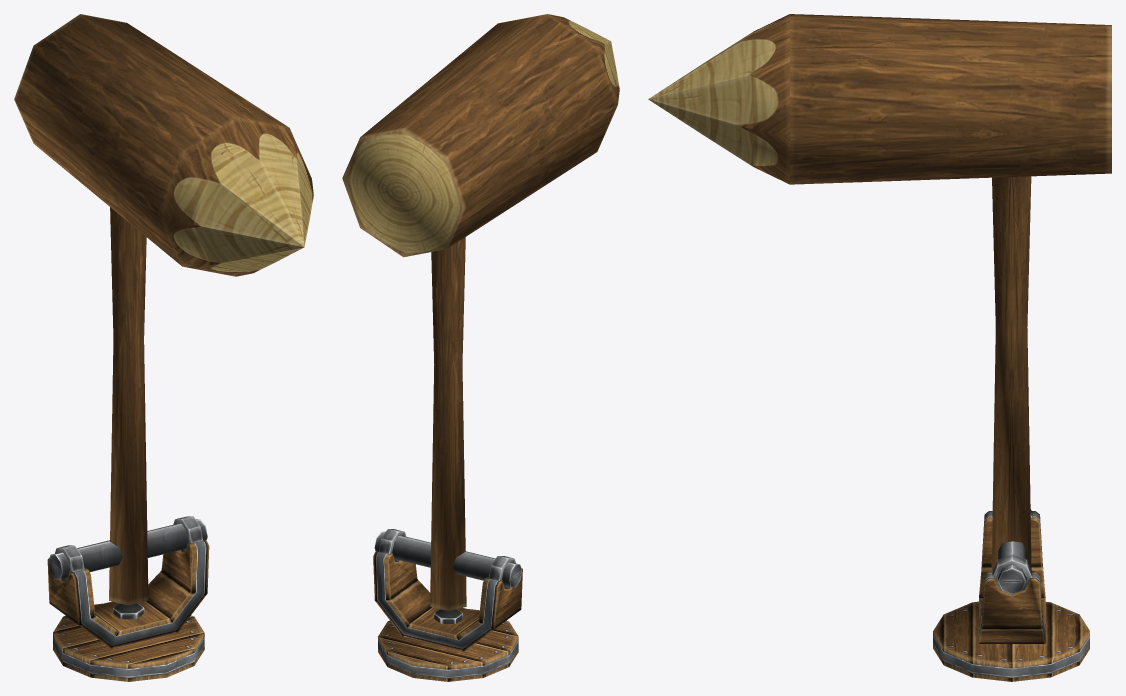
The model's file is Hammer_L1.FBX.
3 views of the same model, side by side, from view 1: azimuth 30°, elevation 25°; view 2: azimuth 150°, elevation 25°; view 3: azimuth 270°, elevation 25° (orthographic). The views are drawn at different scales.
Parts seen in each view (by area): view 1: Hammer_Hammer_L1, Hammer_Hub_L1, Hammer_Base_L1; view 2: Hammer_Hammer_L1, Hammer_Hub_L1, Hammer_Base_L1; view 3: Hammer_Hammer_L1, Hammer_Base_L1, Hammer_Hub_L1.
Part boxes in pixels (x1=…): Hammer_Hammer_L1: x1=14, y1=14, x2=313, y2=605; Hammer_Hub_L1: x1=47, y1=516, x2=209, y2=648; Hammer_Base_L1: x1=53, y1=603, x2=204, y2=681; Hammer_Hammer_L1: x1=342, y1=14, x2=619, y2=611; Hammer_Hub_L1: x1=373, y1=529, x2=522, y2=651; Hammer_Base_L1: x1=378, y1=609, x2=518, y2=681; Hammer_Hammer_L1: x1=648, y1=14, x2=1111, y2=594; Hammer_Base_L1: x1=933, y1=601, x2=1089, y2=681; Hammer_Hub_L1: x1=979, y1=509, x2=1045, y2=643.
Bounding box in the file's own units: 2.17 × 5.54 × 8.33.
